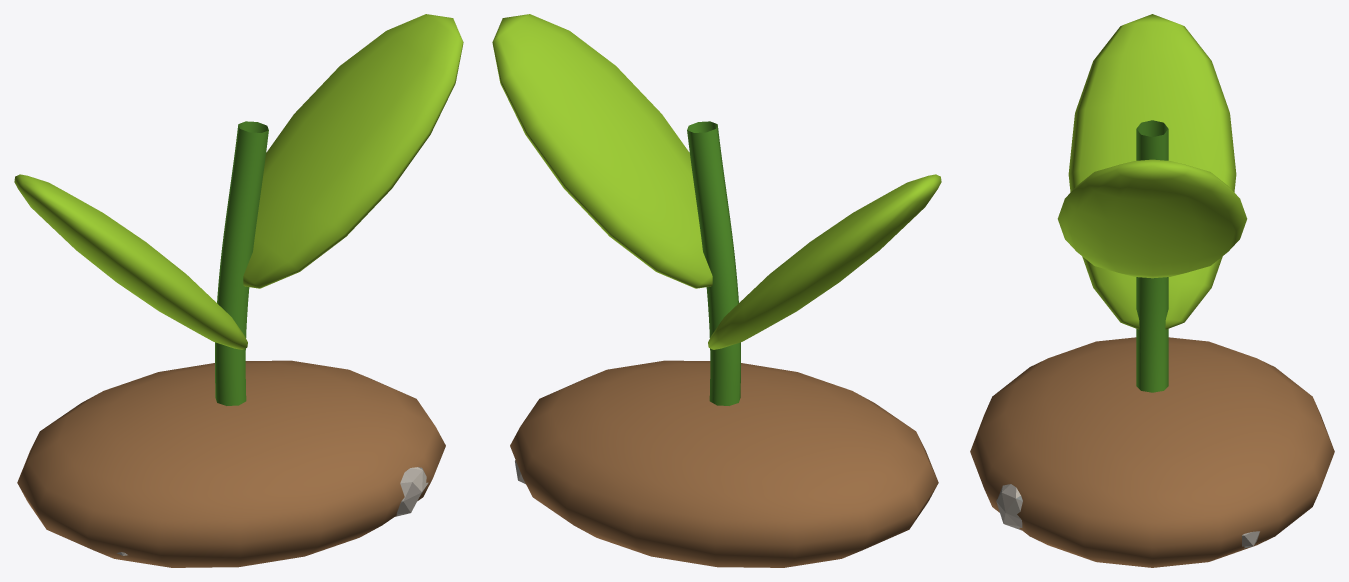
File: seedling.glb
3 renders of one model, left to right at view 1: azimuth 30°, elevation 25°; view 2: azimuth 150°, elevation 25°; view 3: azimuth 270°, elevation 25°, orthographic.
Visible parts, largest first — view 1: seedling; view 2: seedling; view 3: seedling.
Boxes of the visible parts, x1=… form: seedling: x1=14, y1=14, x2=463, y2=567; seedling: x1=492, y1=14, x2=941, y2=567; seedling: x1=970, y1=14, x2=1334, y2=567.
Bounding box in the file's own units: 0.6858 × 0.697 × 0.5.
